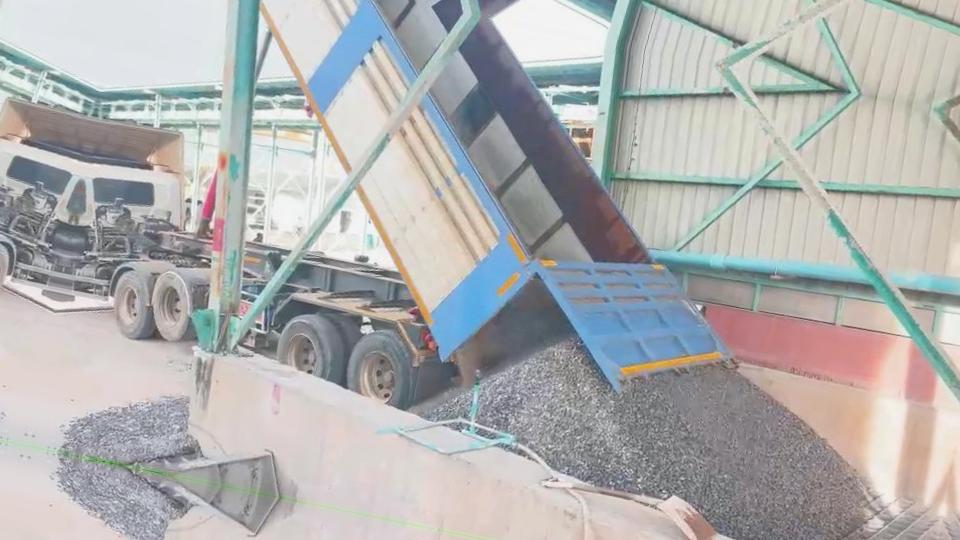gravel: (478, 338, 871, 540), (60, 396, 198, 464), (417, 392, 471, 420)
